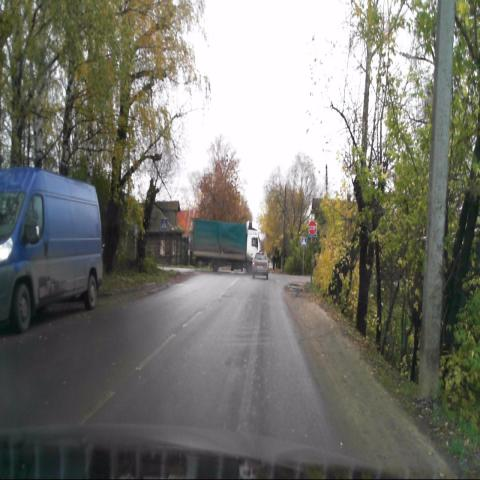2_5: (308, 221, 318, 236)
5_19_1: (300, 236, 308, 247), (161, 218, 168, 230)
